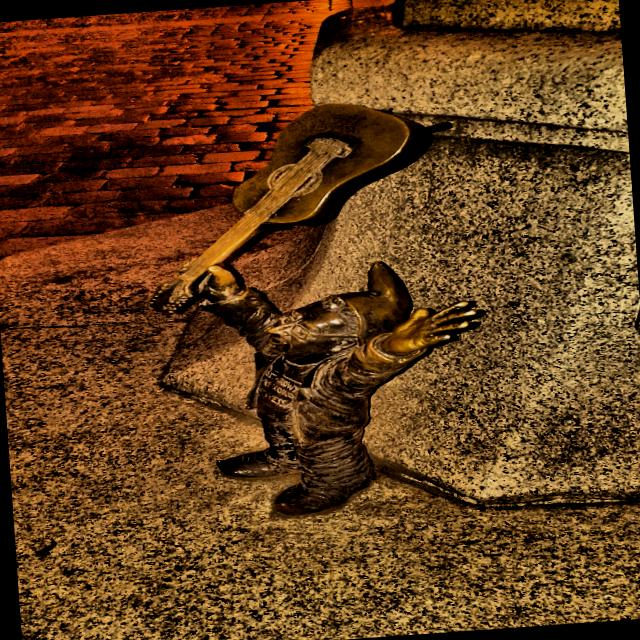Leszko_z_Wroclawia: (153, 104, 487, 518)
